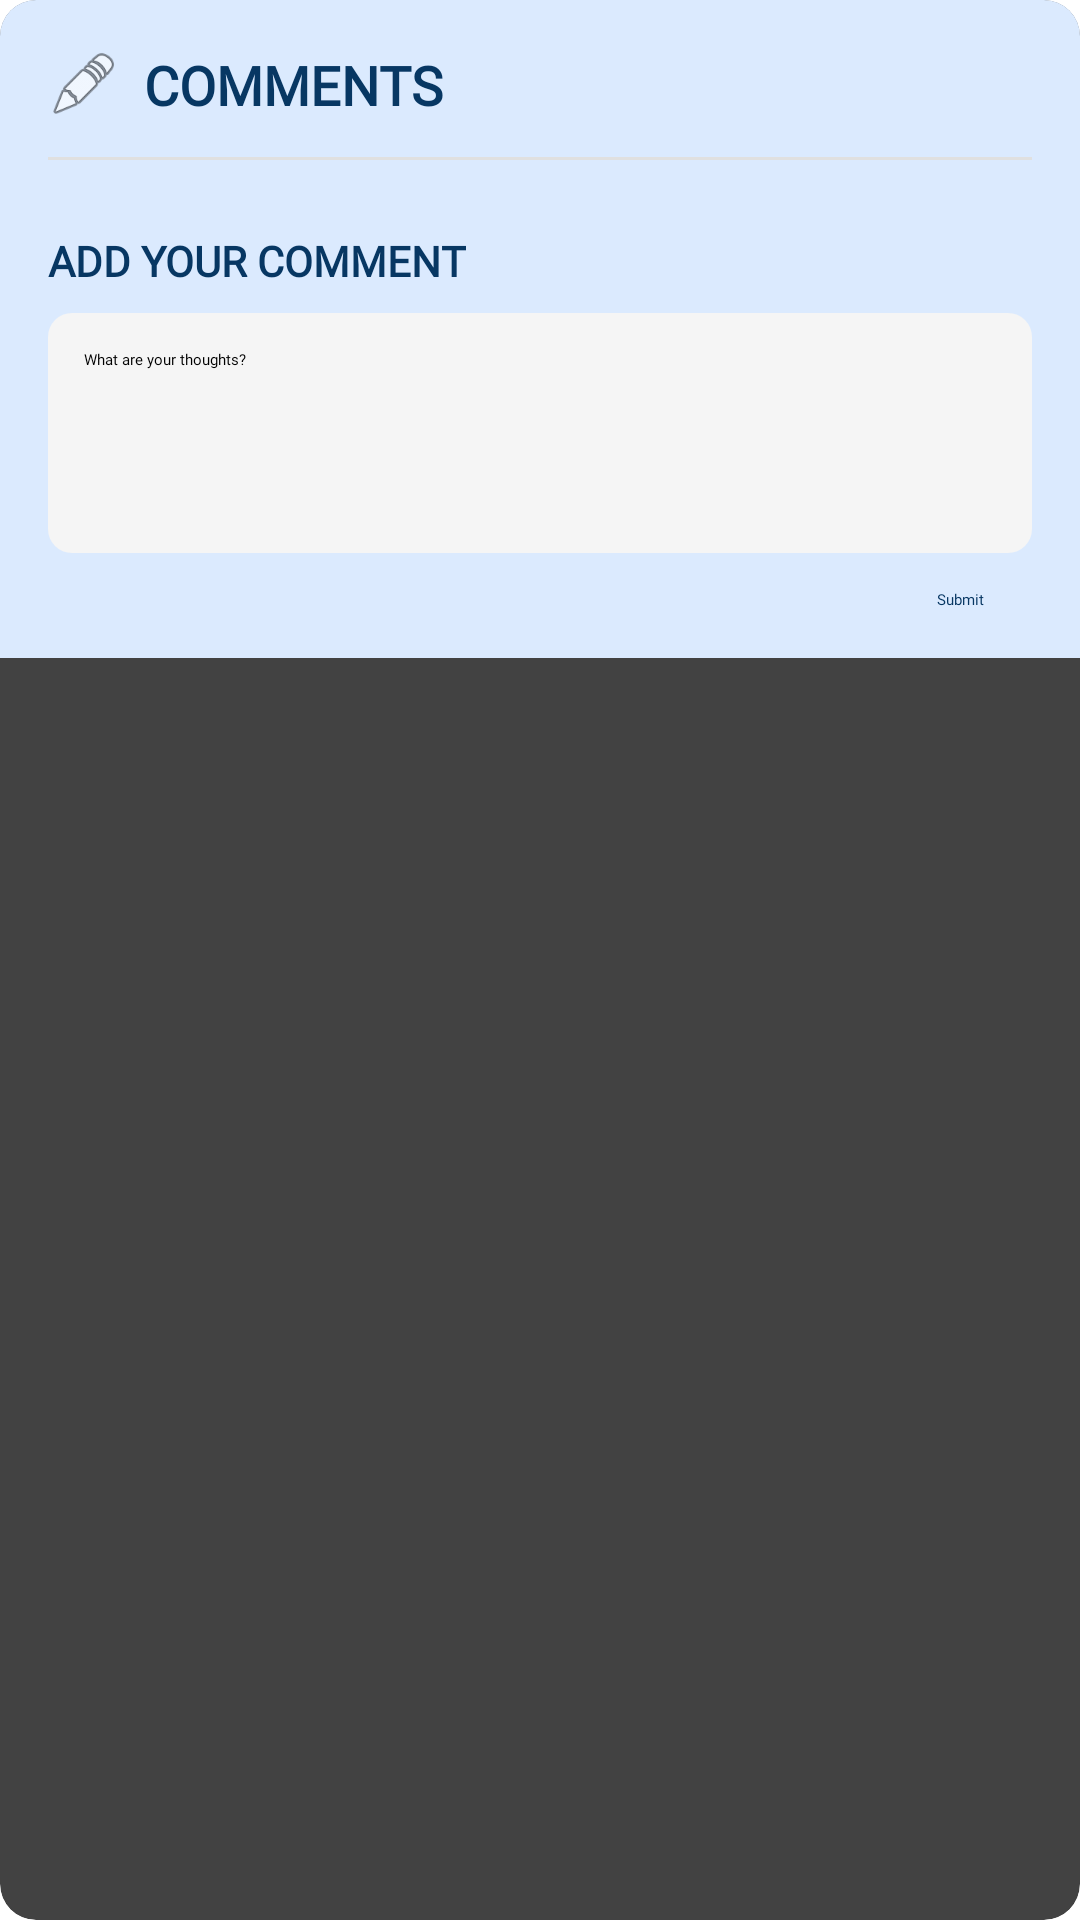

Named icons in this screenshot (1080 x 1920) and their centers, point (x, y):
edit: point (83, 83)
